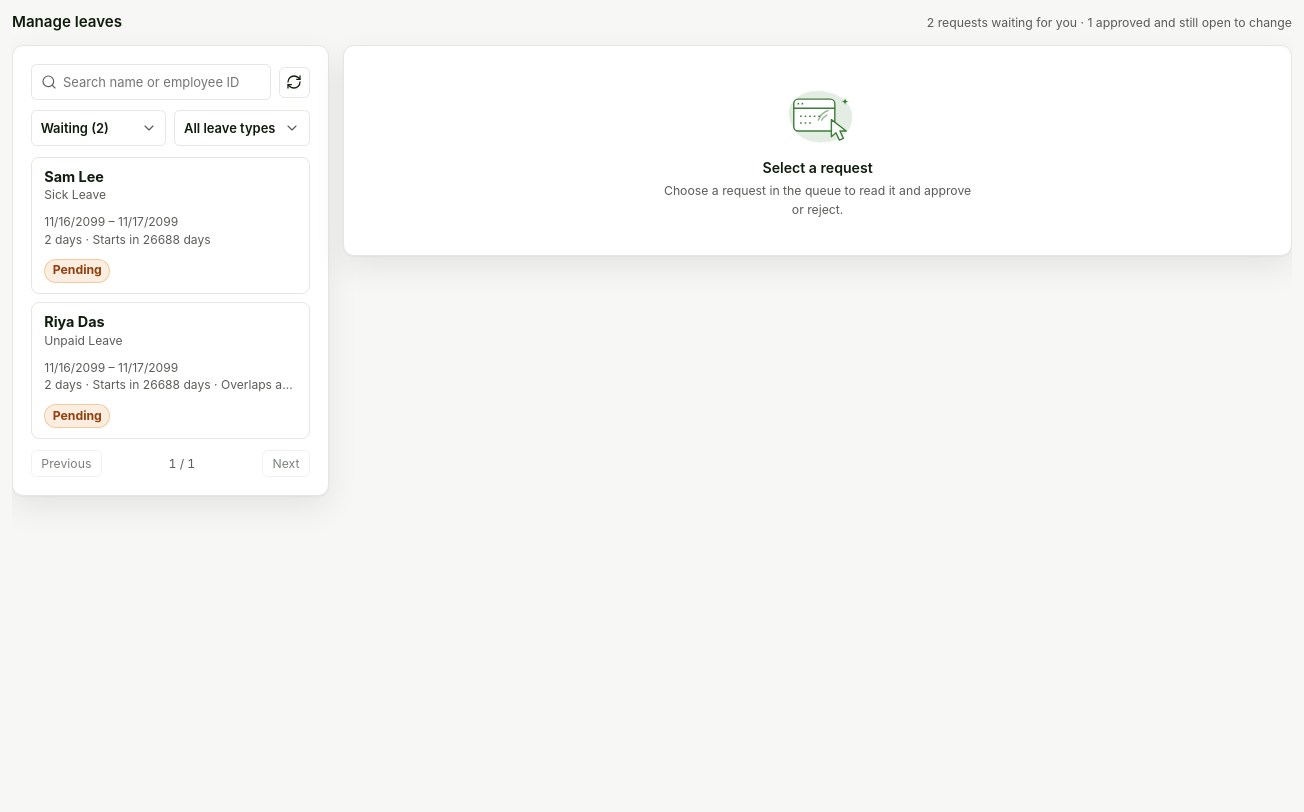
Test: LeaveApprovalWorkspace › shows waiting and approved together under All
What coordinates should you click on to do the following:
click the dropdown named "Filter by status"
I would click on:
 (99, 128)
Its box is [31, 110, 166, 146].
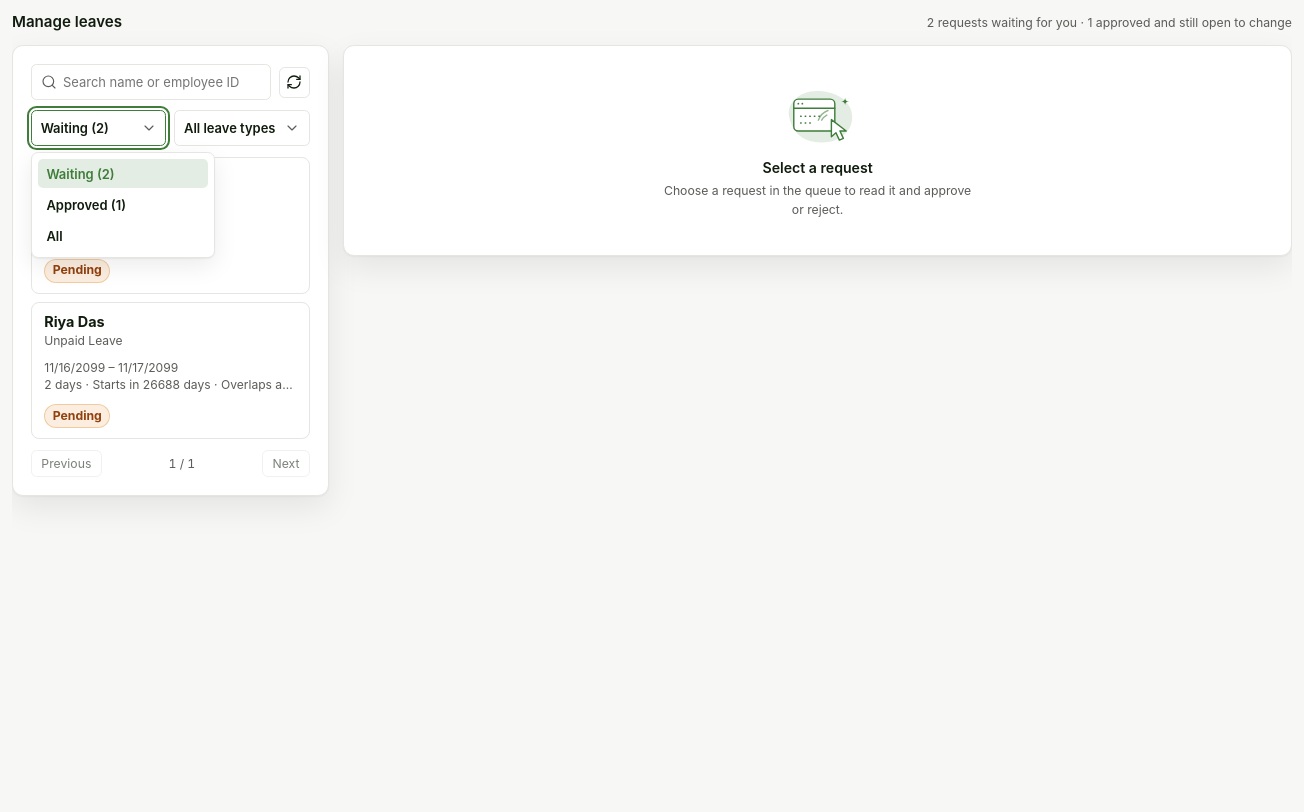
What coordinates should you click on to do the following:
click the option "All"
I would click on:
 (54, 236)
Its box is [46, 228, 63, 244].
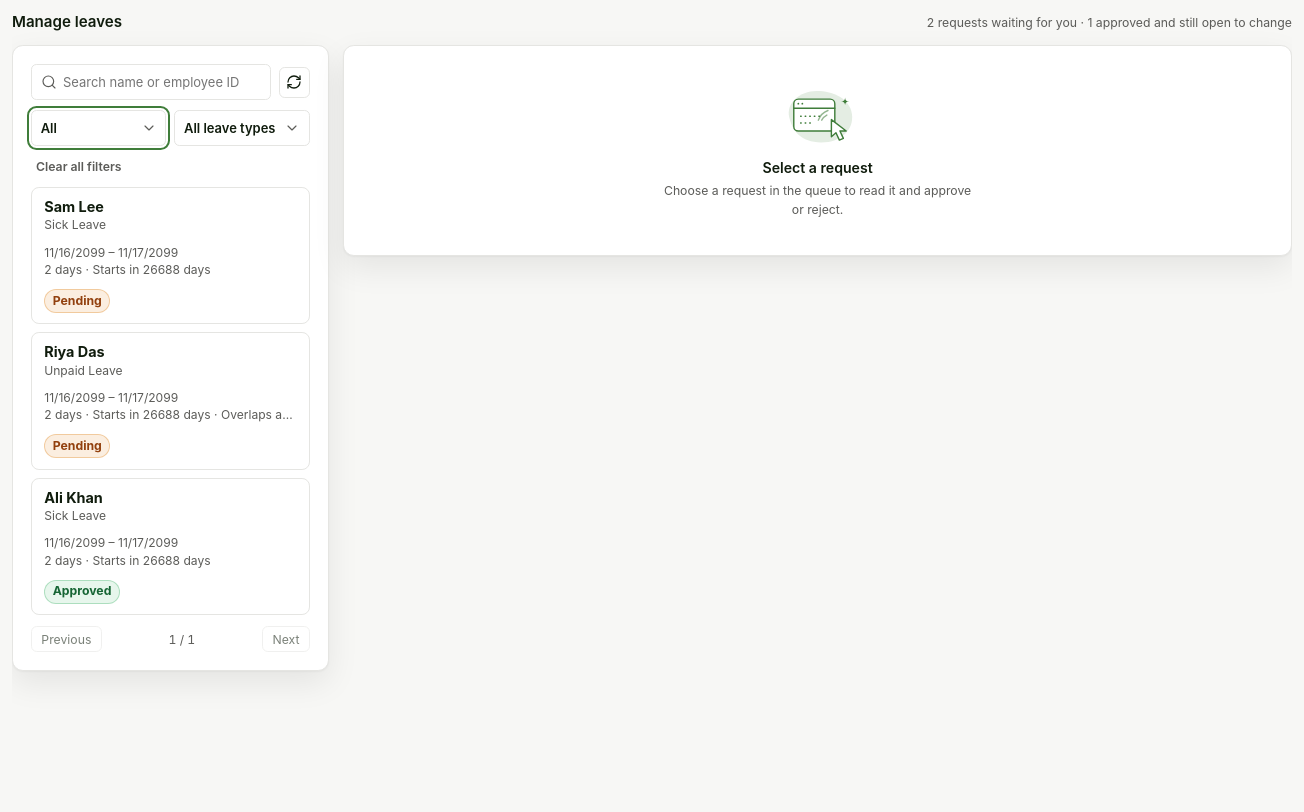
expect the number of list items is 3: met, box [31, 187, 310, 324]; [31, 332, 310, 470]; [31, 478, 310, 615]
expect the list item that starts with "Ali Khan" is shown: met, box [44, 489, 103, 506]
